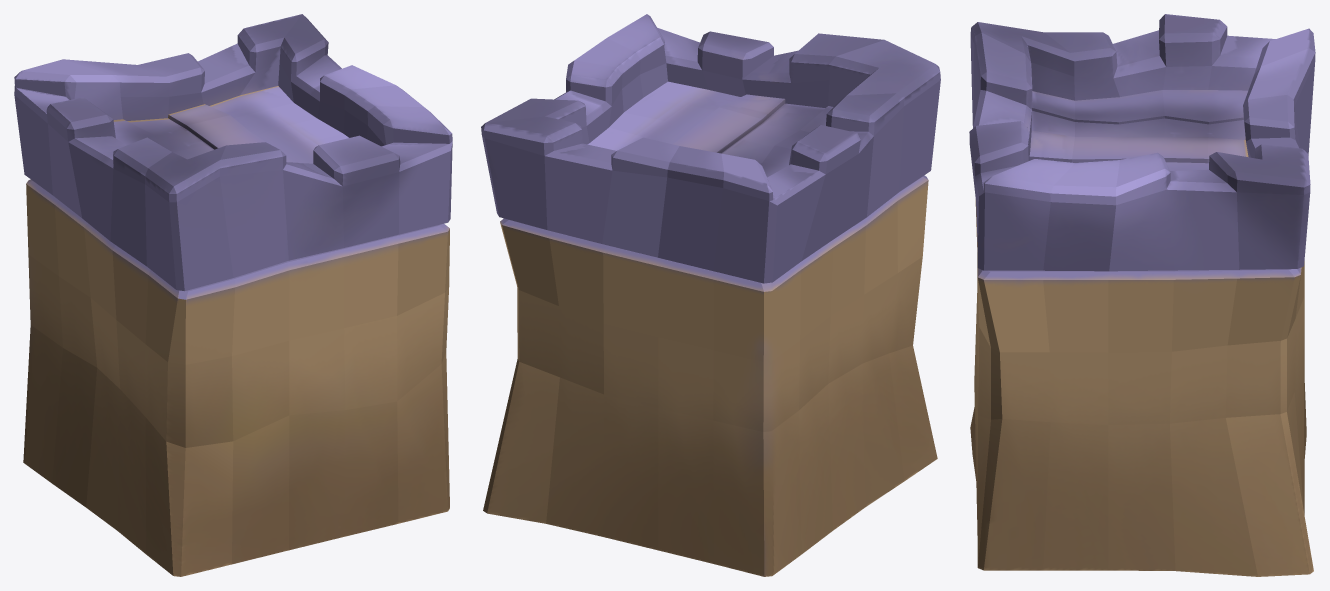
File: house 4.fbx
3 renders of one model, left to right at view 1: azimuth 30°, elevation 25°; view 2: azimuth 150°, elevation 25°; view 3: azimuth 270°, elevation 25°, orthographic. The views are drawn at different scales.
Parts seen in each view (by area): view 1: Cube.003; view 2: Cube.003; view 3: Cube.003.
Part boxes in pixels (x1,y1,x2,y2): Cube.003: (14,14,452,576); Cube.003: (481,14,940,576); Cube.003: (969,14,1315,576).
Bounding box in the file's own units: 178 × 221 × 165.
